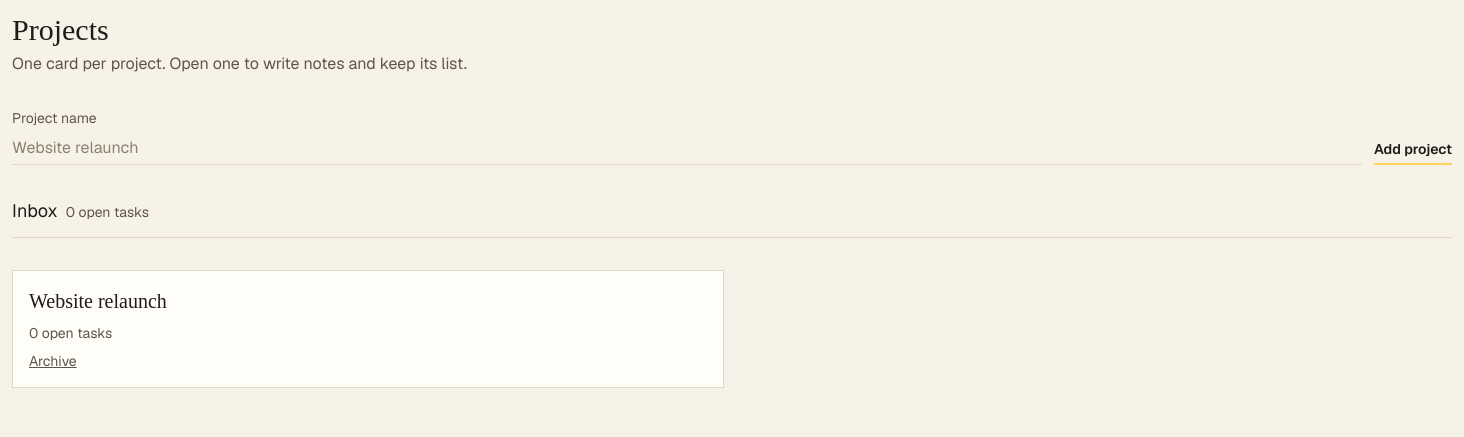
Test: Projects screen › explains a name that is already taken, and adds nothing
Type "website RELAUNCH" into the field labelled "Project name" at [687, 148], box 12,132 -> 1362,165
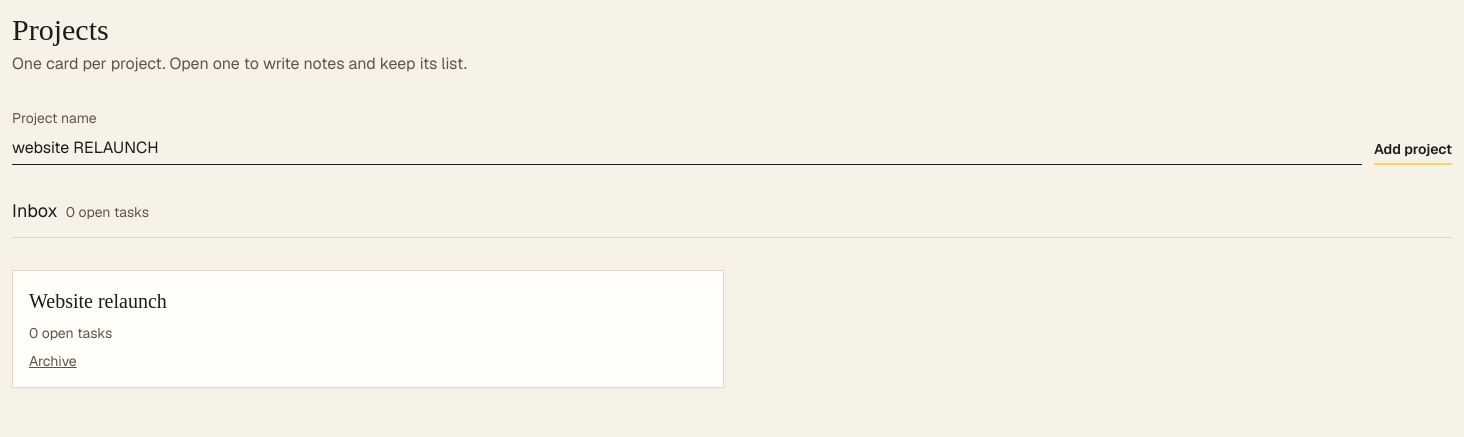
Click the button "Add project" at [1413, 150], box 1374,135 -> 1452,165
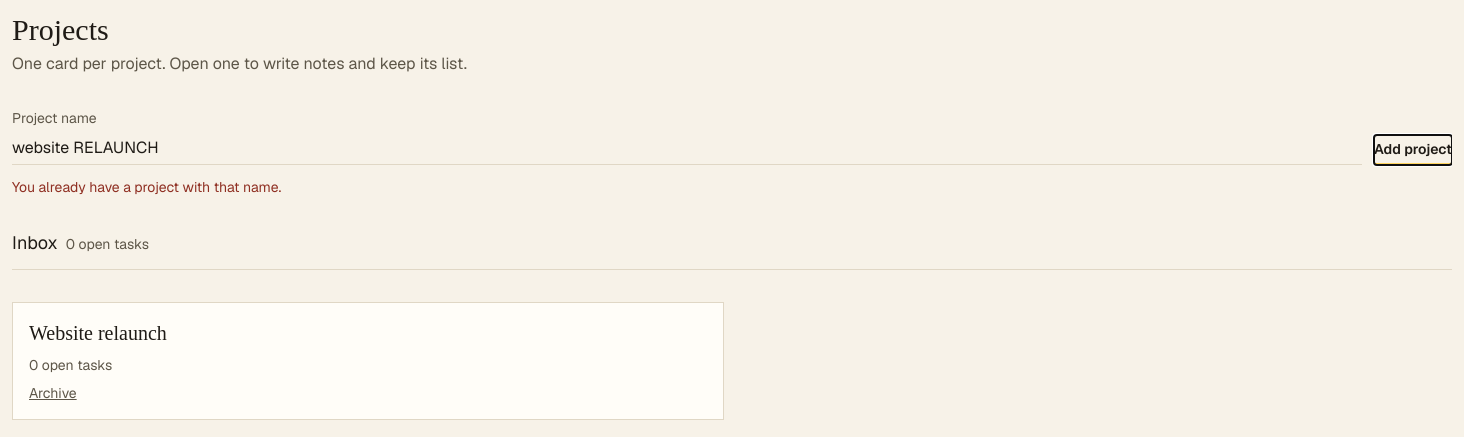
Expected: the number of links "Website relaunch" is 1, 29,322 -> 167,344
Result: the message reads "You already have a project with that name." at 12,178 -> 281,196
